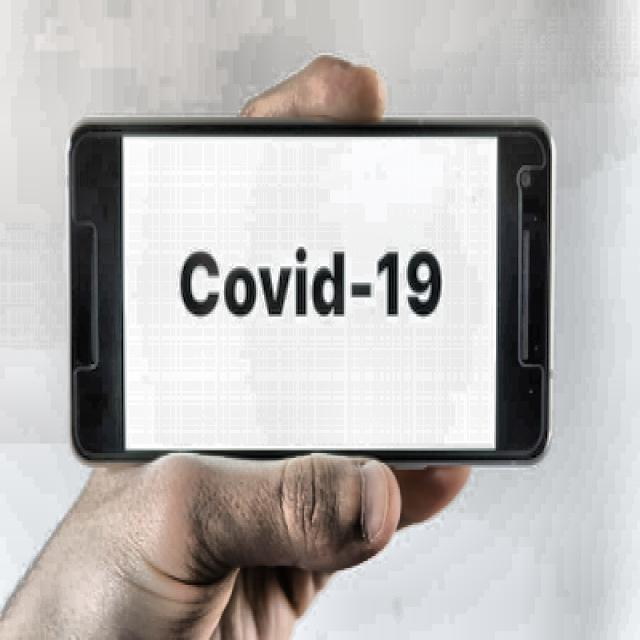Phone: (68, 114, 556, 468)
